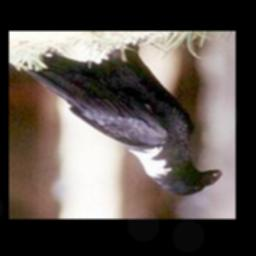Crow: (17, 39, 224, 202)
